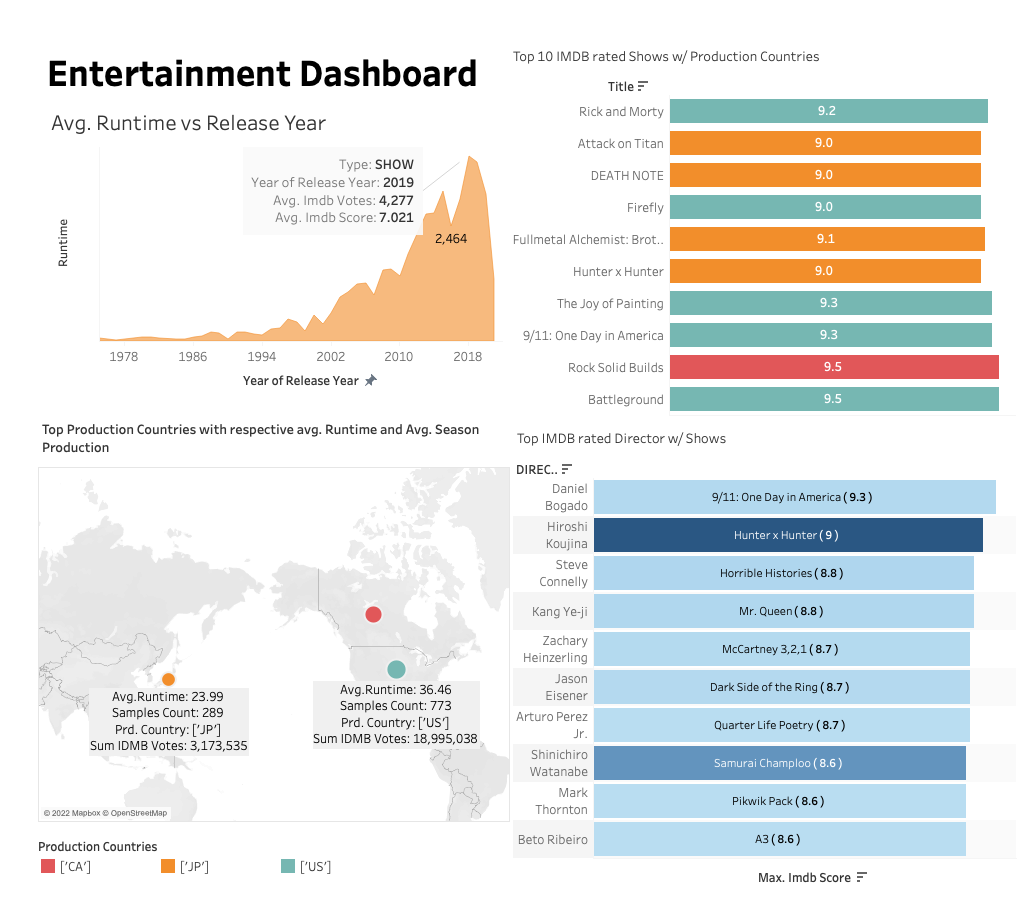

This screenshot's page, from the dashboard's own definition file:
{"tool":"tableau","page":{"name":"Dashboard 1","canvas":[1200,870],"ordinal":0},"visuals":[{"type":"text","box":[8,9,608,45]},{"type":"worksheet","title":"Country","mark":"Circle","box":[616,12,555,449]},{"type":"legend","title":"Show IMDB","param":"[federated.0dn1hd31x6mwfk0zzmgs41ncjy2p].[none:production_countries:nk]","box":[985,52,188,81]},{"type":"worksheet","title":"Avg. Runtime vs Release Years","mark":"Line","rows":["runtime"],"cols":["release_year"],"box":[7,54,608,408]},{"type":"legend","title":"Country","param":"[federated.0dn1hd31x6mwfk0zzmgs41ncjy2p].[none:type:nk]","box":[10,94,135,50]},{"type":"worksheet","title":"Show IMDB","mark":"Automatic","rows":["type","title"],"cols":["imdb_score","imdb_votes"],"box":[11,468,1173,390]},{"type":"text","box":[354,471,826,42]}]}

Visuals, with their boxes on the page's 1200x870 design canvas (x1, y1, x2, y2). These are canvas units, not pixel positions in the 1030x904 screenshot, which may show the page scaled, cropped or inside an application window:
text: [x1=8, y1=9, x2=616, y2=54]
"Country" worksheet (Circle marks): [x1=616, y1=12, x2=1171, y2=461]
"Show IMDB" legend: [x1=985, y1=52, x2=1173, y2=133]
"Avg. Runtime vs Release Years" worksheet (Line marks): [x1=7, y1=54, x2=615, y2=462]
"Country" legend: [x1=10, y1=94, x2=145, y2=144]
"Show IMDB" worksheet: [x1=11, y1=468, x2=1184, y2=858]
text: [x1=354, y1=471, x2=1180, y2=513]
